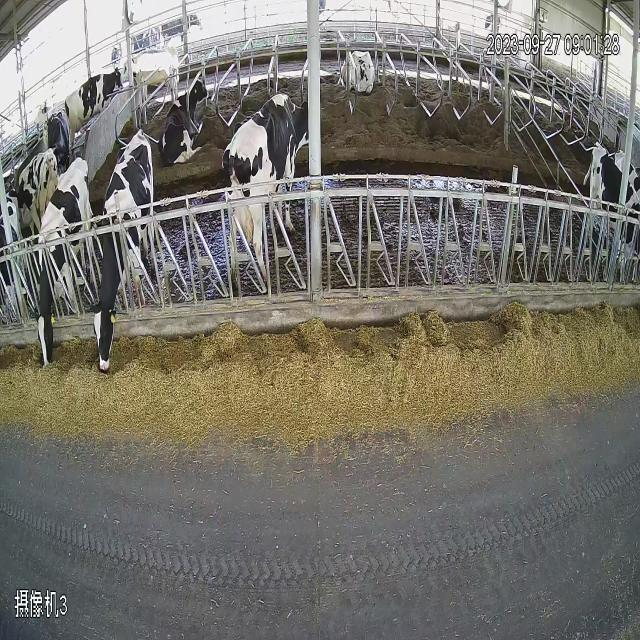feeding: (36, 157, 166, 406)
lying down: (157, 52, 210, 182), (341, 30, 389, 134)
standing: (216, 52, 342, 288), (24, 28, 135, 158), (7, 144, 61, 229)
